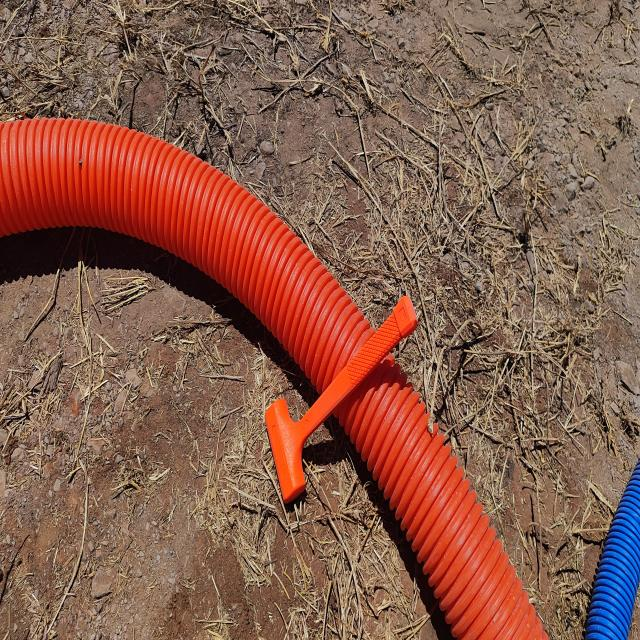Orange_hammer: (264, 293, 419, 505)
